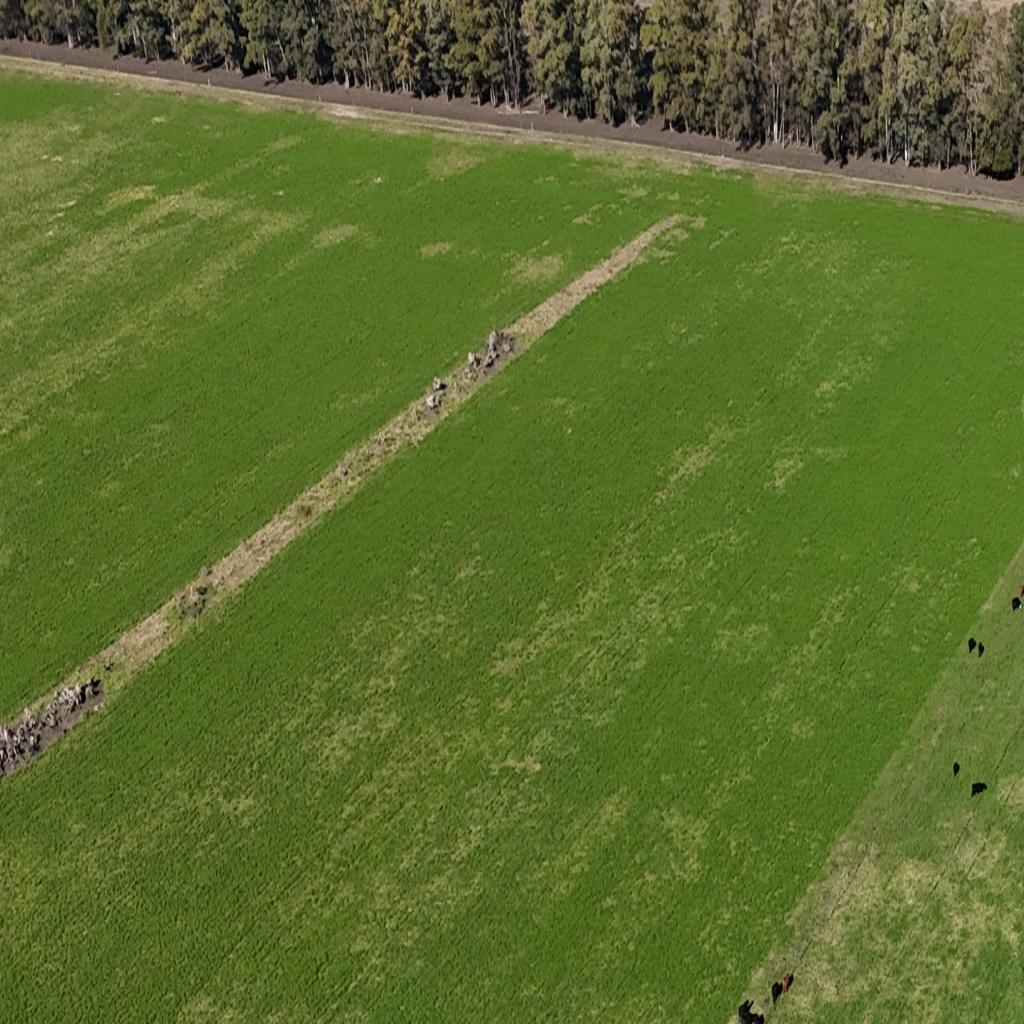cow: (971, 782, 987, 798), (741, 1011, 759, 1024), (738, 998, 750, 1016), (950, 759, 960, 779), (771, 980, 779, 1003), (1011, 596, 1022, 612), (783, 972, 790, 993), (968, 637, 975, 654), (977, 642, 984, 658)
